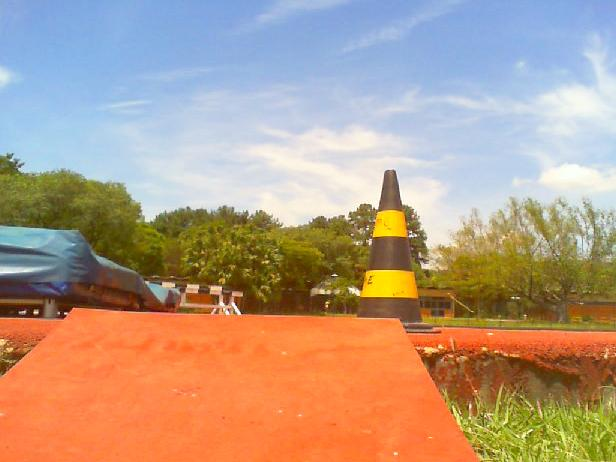0 cone: (341, 170, 441, 333)
